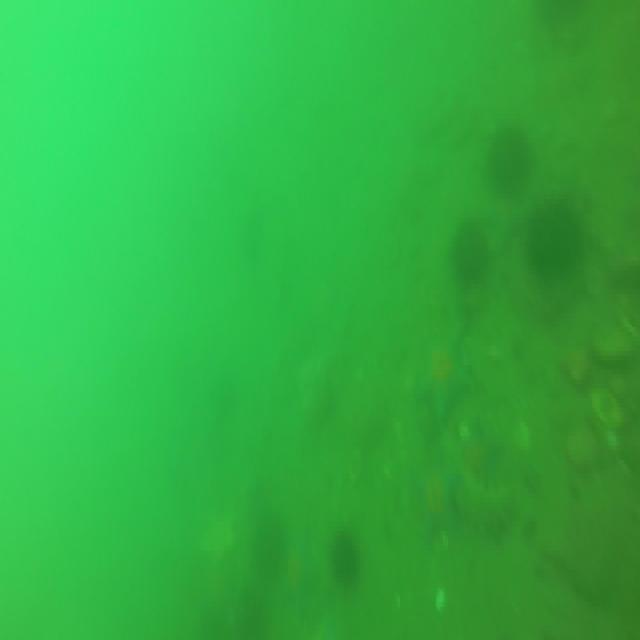echinus: (523, 202, 582, 276), (490, 130, 532, 191), (251, 507, 286, 579), (452, 227, 484, 283), (330, 533, 355, 578)
holothurian: (436, 428, 512, 528)
scallop: (591, 384, 618, 430)
starfish: (416, 328, 473, 431), (414, 454, 462, 544)
